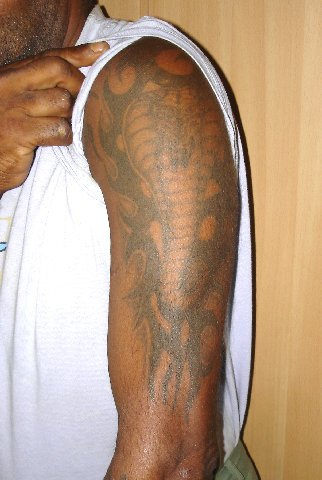tatu7_zmeya: (114, 76, 240, 355)
